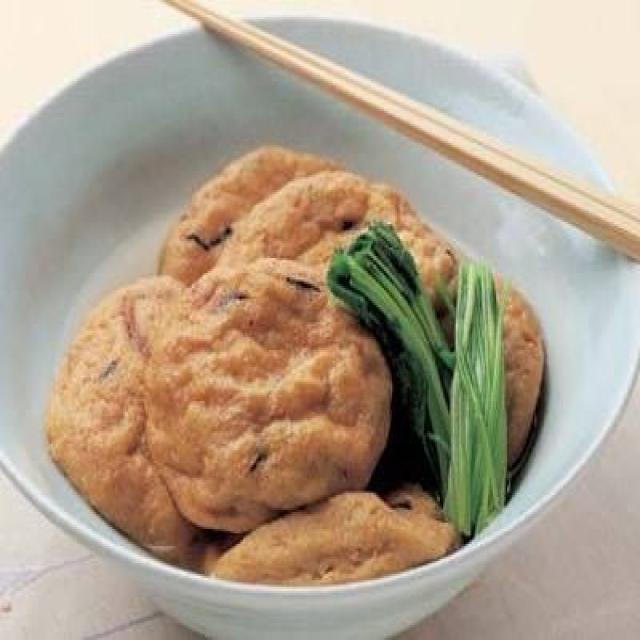熟制海鲜: (0, 9, 632, 627)
